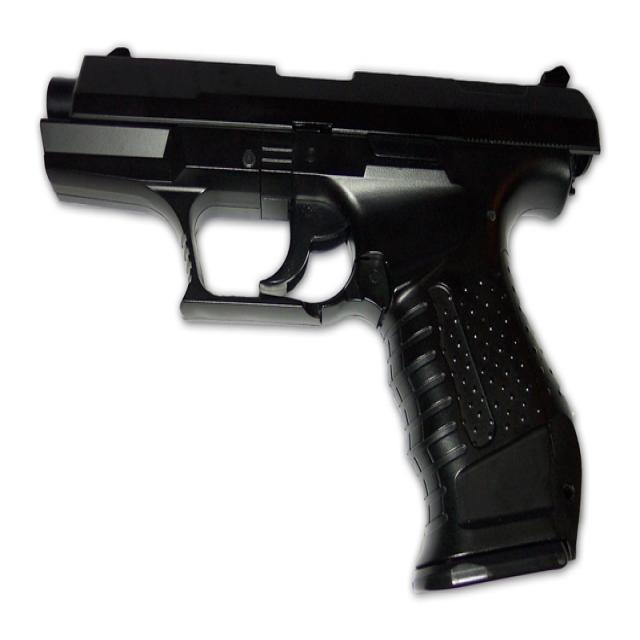gun: (31, 21, 607, 592)
